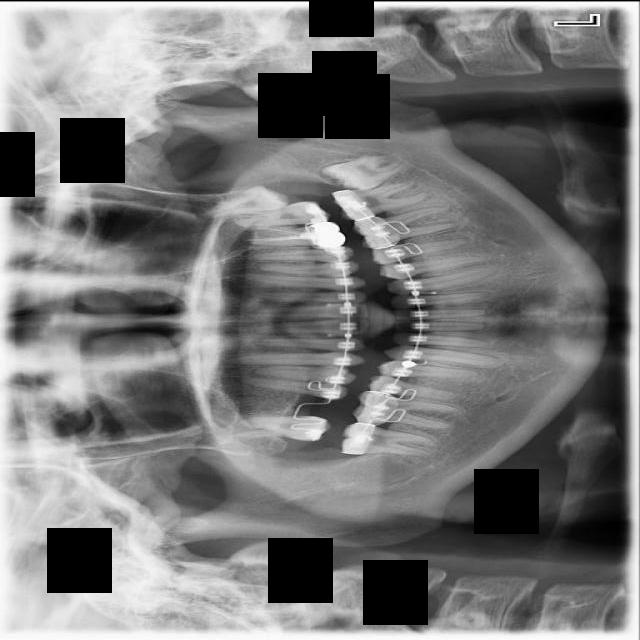52: (287, 190, 332, 233), (309, 215, 347, 252)
73: (244, 225, 315, 246)
BioHorizons Implant: (230, 197, 329, 235)
BioLife Implant: (204, 181, 289, 218)
Biomet 3i Implant: (318, 150, 406, 198)
Blue Sky Bio Implant: (331, 177, 432, 223)
Caries: (238, 411, 331, 441)
Implant: (340, 422, 435, 455)
